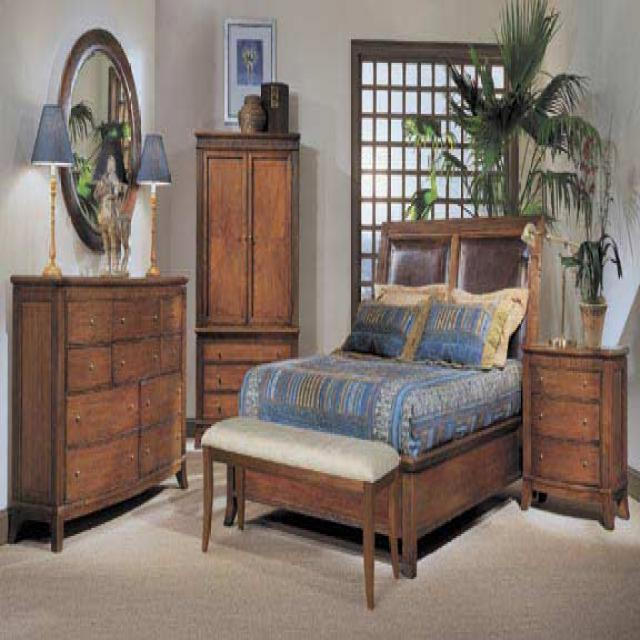bed -occluded-: (221, 216, 539, 567)
chest of drawers occluded: (4, 273, 186, 546)
mirror crop: (59, 29, 139, 245)
painting crop: (223, 16, 273, 118)
pillow occluded: (409, 296, 504, 361), (339, 298, 421, 355)
plant -x: (558, 226, 622, 296)
pot hanger: (580, 300, 604, 346)
tablelamp: (30, 102, 73, 275), (134, 132, 169, 273)
